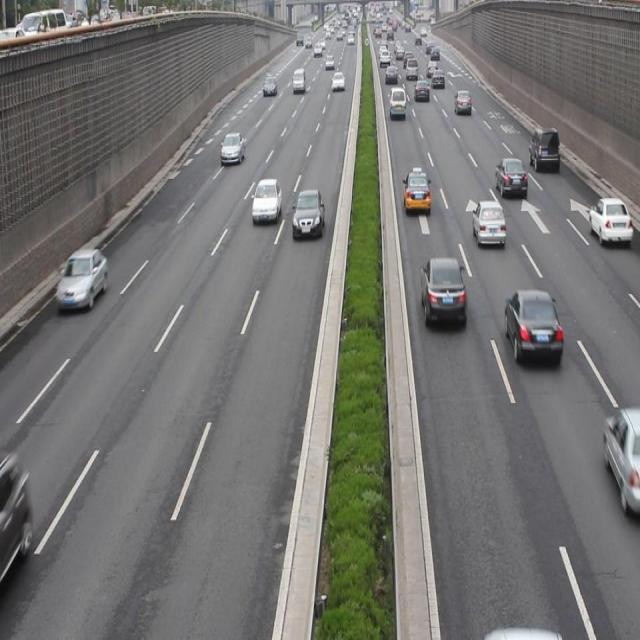car: (503, 288, 561, 365), (602, 406, 640, 509), (54, 246, 109, 310), (420, 255, 466, 327), (588, 196, 631, 247), (290, 188, 323, 238), (472, 199, 504, 248), (529, 126, 559, 172), (495, 154, 526, 198), (251, 178, 281, 223), (403, 170, 430, 215), (219, 131, 245, 166)
